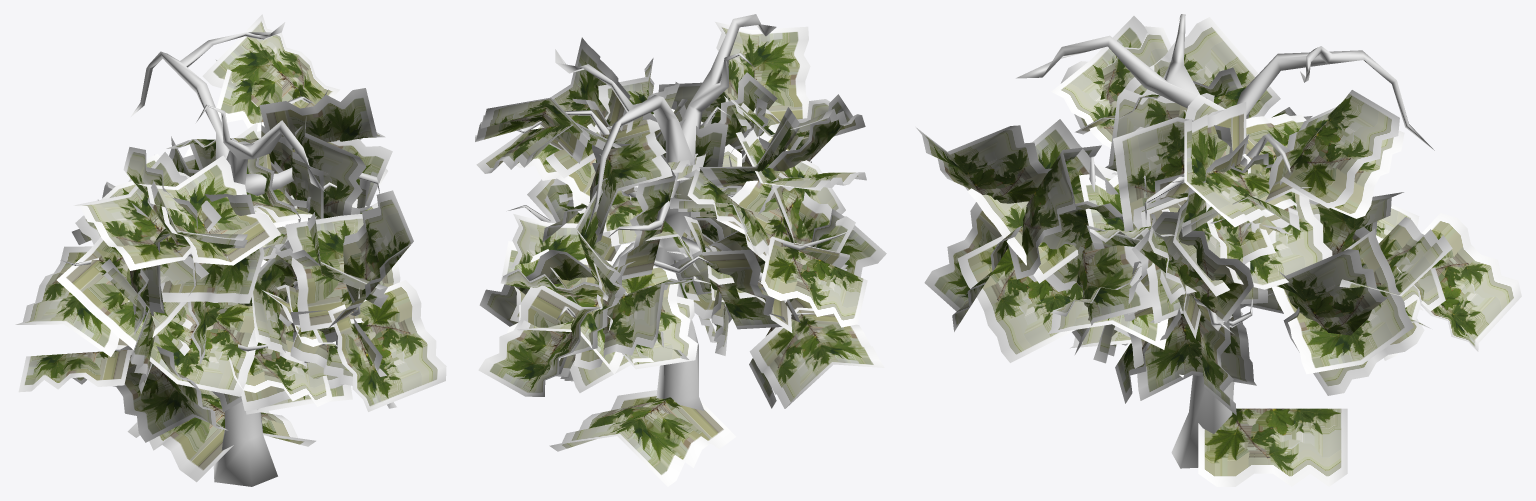
File: Tree_2_HALF_DECIMATED (1).fbx
3 renders of one model, left to right at view 1: azimuth 30°, elevation 25°; view 2: azimuth 150°, elevation 25°; view 3: azimuth 270°, elevation 25°, orthographic. The views are drawn at different scales.
Visible parts, largest first — view 1: Stronk, Stronk|Blaadjes|Dupli|55, Stronk|Blaadjes|Dupli|45, Stronk|Blaadjes|Dupli|30, Stronk|Blaadjes|Dupli|2, Stronk|Blaadjes|Dupli|13, Stronk|Blaadjes|Dupli|64, Stronk|Blaadjes|Dupli|54, Stronk|Blaadjes|Dupli|33, Stronk|Blaadjes|Dupli|52, Blaadjes, Stronk|Blaadjes|Dupli|16 (+27 smaller); view 2: Stronk, Blaadjes, Stronk|Blaadjes|Dupli|31, Stronk|Blaadjes|Dupli|46, Stronk|Blaadjes|Dupli|52, Stronk|Blaadjes|Dupli|5, Stronk|Blaadjes|Dupli|17, Stronk|Blaadjes|Dupli|4, Stronk|Blaadjes|Dupli|49, Stronk|Blaadjes|Dupli|43, Stronk|Blaadjes|Dupli|16, Stronk|Blaadjes|Dupli|36 (+35 smaller); view 3: Stronk, Blaadjes, Stronk|Blaadjes|Dupli|2, Stronk|Blaadjes|Dupli|46, Stronk|Blaadjes|Dupli|53, Stronk|Blaadjes|Dupli|15, Stronk|Blaadjes|Dupli|16, Stronk|Blaadjes|Dupli|52, Stronk|Blaadjes|Dupli|26, Stronk|Blaadjes|Dupli|25, Stronk|Blaadjes|Dupli|22, Stronk|Blaadjes|Dupli|56 (+29 smaller).
Part boxes in pixels (bbox=[...]): Stronk: bbox=[60, 22, 379, 486]; Stronk|Blaadjes|Dupli|55: bbox=[328, 280, 446, 411]; Stronk|Blaadjes|Dupli|45: bbox=[136, 155, 280, 265]; Stronk|Blaadjes|Dupli|30: bbox=[149, 302, 258, 396]; Stronk|Blaadjes|Dupli|2: bbox=[202, 14, 339, 108]; Stronk|Blaadjes|Dupli|13: bbox=[74, 152, 221, 270]; Stronk|Blaadjes|Dupli|64: bbox=[57, 202, 209, 349]; Stronk|Blaadjes|Dupli|54: bbox=[285, 214, 400, 331]; Stronk|Blaadjes|Dupli|33: bbox=[113, 345, 227, 442]; Stronk|Blaadjes|Dupli|52: bbox=[329, 190, 413, 327]; Blaadjes: bbox=[127, 388, 315, 482]; Stronk|Blaadjes|Dupli|16: bbox=[259, 88, 385, 149]; Stronk: bbox=[508, 14, 853, 410]; Blaadjes: bbox=[549, 390, 735, 486]; Stronk|Blaadjes|Dupli|31: bbox=[749, 307, 884, 408]; Stronk|Blaadjes|Dupli|46: bbox=[478, 285, 600, 396]; Stronk|Blaadjes|Dupli|52: bbox=[715, 22, 810, 121]; Stronk|Blaadjes|Dupli|5: bbox=[761, 238, 867, 327]; Stronk|Blaadjes|Dupli|17: bbox=[585, 114, 672, 242]; Stronk|Blaadjes|Dupli|4: bbox=[716, 150, 845, 244]; Stronk|Blaadjes|Dupli|49: bbox=[574, 278, 696, 369]; Stronk|Blaadjes|Dupli|43: bbox=[684, 216, 785, 329]; Stronk|Blaadjes|Dupli|16: bbox=[522, 37, 630, 178]; Stronk|Blaadjes|Dupli|36: bbox=[593, 263, 697, 369]; Stronk: bbox=[1016, 14, 1443, 468]; Blaadjes: bbox=[1198, 408, 1347, 486]; Stronk|Blaadjes|Dupli|2: bbox=[1280, 90, 1399, 208]; Stronk|Blaadjes|Dupli|46: bbox=[1397, 213, 1521, 351]; Stronk|Blaadjes|Dupli|53: bbox=[957, 236, 1075, 362]; Stronk|Blaadjes|Dupli|15: bbox=[1272, 229, 1413, 374]; Stronk|Blaadjes|Dupli|16: bbox=[1184, 102, 1296, 227]; Stronk|Blaadjes|Dupli|52: bbox=[916, 125, 1051, 203]; Stronk|Blaadjes|Dupli|26: bbox=[1277, 249, 1388, 335]; Stronk|Blaadjes|Dupli|25: bbox=[1124, 304, 1256, 400]; Stronk|Blaadjes|Dupli|22: bbox=[1113, 117, 1234, 236]; Stronk|Blaadjes|Dupli|56: bbox=[967, 119, 1118, 283].
Size of the model in its own units: 447 by 449 by 573.
